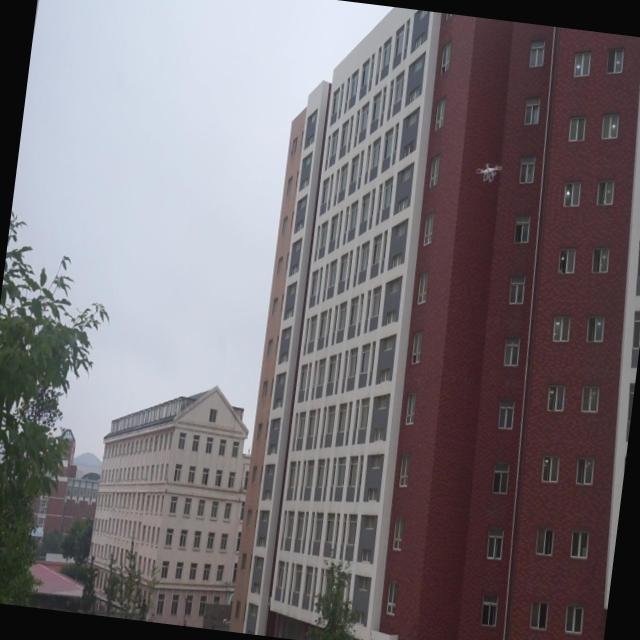drone: (472, 156, 507, 191)
